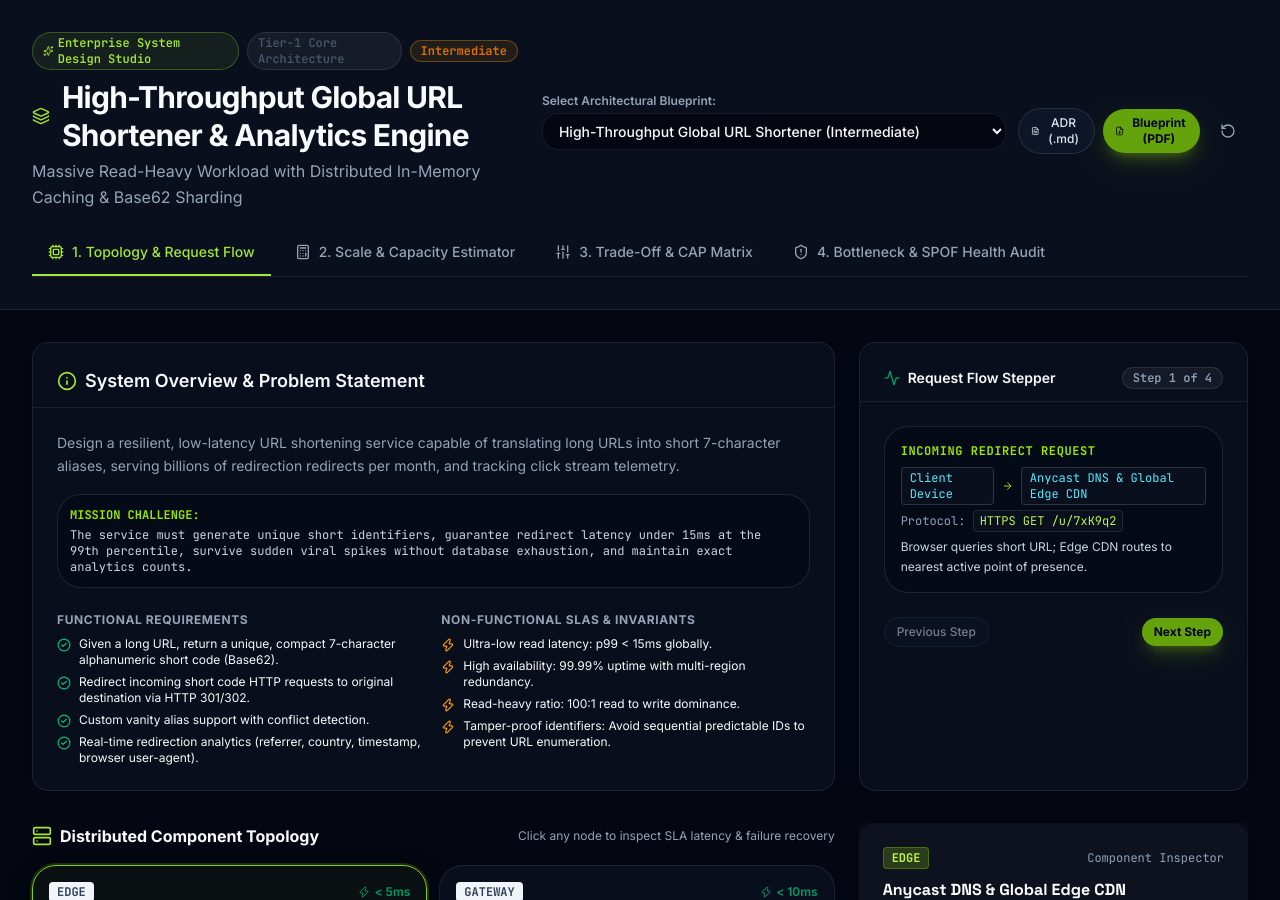
Test: SystemDesignStudioPage › allows stepping through request flow in Topology tab
Check: the text "Step 1 of 4" is shown, box x1=1122 y1=367 x2=1223 y2=389
Check: the text "Incoming Redirect Request" is shown, box x1=901 y1=443 x2=1096 y2=459
Step 1. Click the button "Next Step" → {"x": 1182, "y": 632}, box x1=1142 y1=618 x2=1223 y2=646
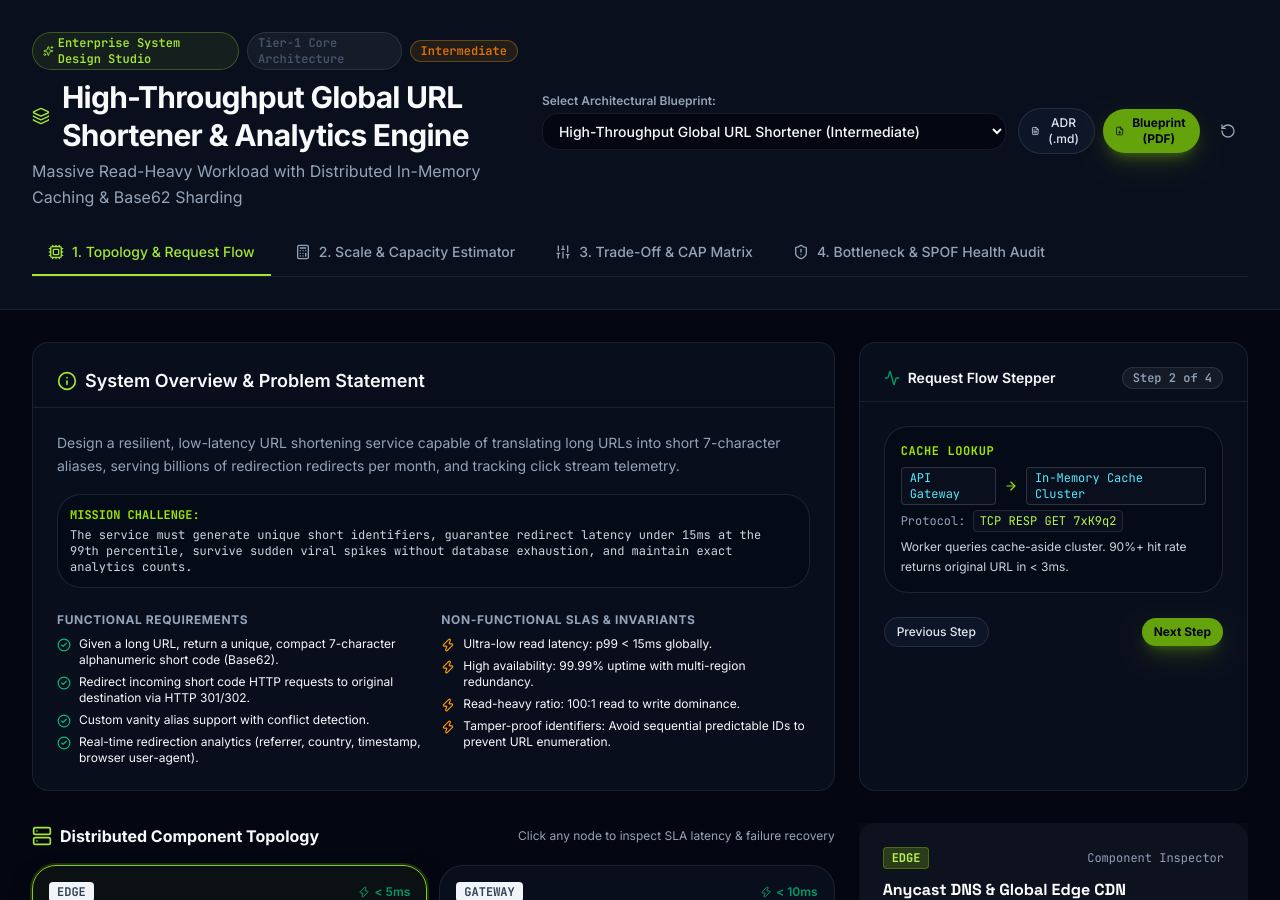
Check: the text "Step 2 of 4" is shown, box x1=1122 y1=367 x2=1223 y2=389
Check: the text "Cache Lookup" is shown, box x1=901 y1=443 x2=994 y2=459
